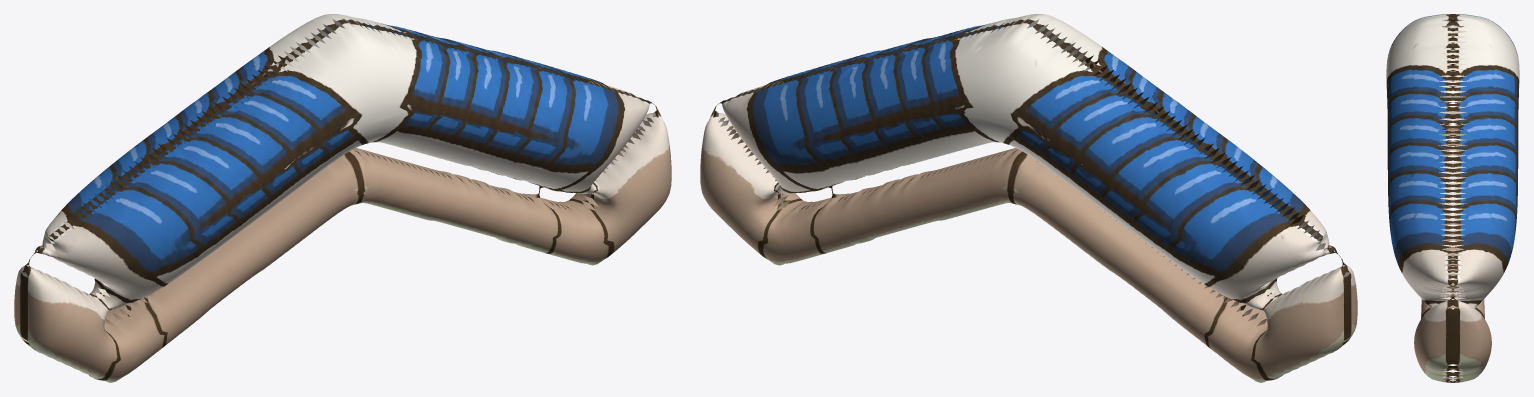
File: rim_corner.glb
3 renders of one model, left to right at view 1: azimuth 30°, elevation 25°; view 2: azimuth 150°, elevation 25°; view 3: azimuth 270°, elevation 25°, orthographic. The views are drawn at different scales.
Visible parts, largest first — view 1: rim_corner; view 2: rim_corner; view 3: rim_corner.
Boxes of the visible parts, <box> form: rim_corner: <box>14,14,671,382</box>; rim_corner: <box>700,14,1357,382</box>; rim_corner: <box>1386,14,1519,382</box>.
Size of the model in its own units: 0.9889 by 0.4395 by 0.2034.
Materials: 1 (1 with a texture image).
